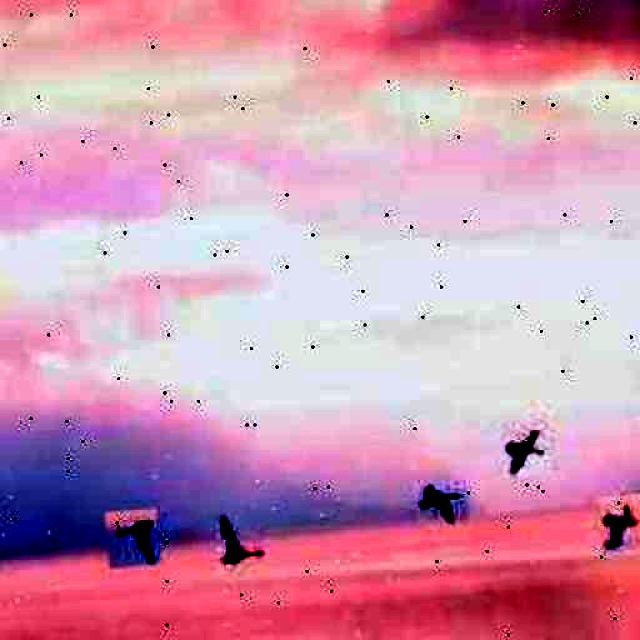airplane: (212, 510, 266, 574), (104, 508, 160, 568), (500, 419, 554, 478), (412, 478, 469, 530), (598, 494, 640, 554)
